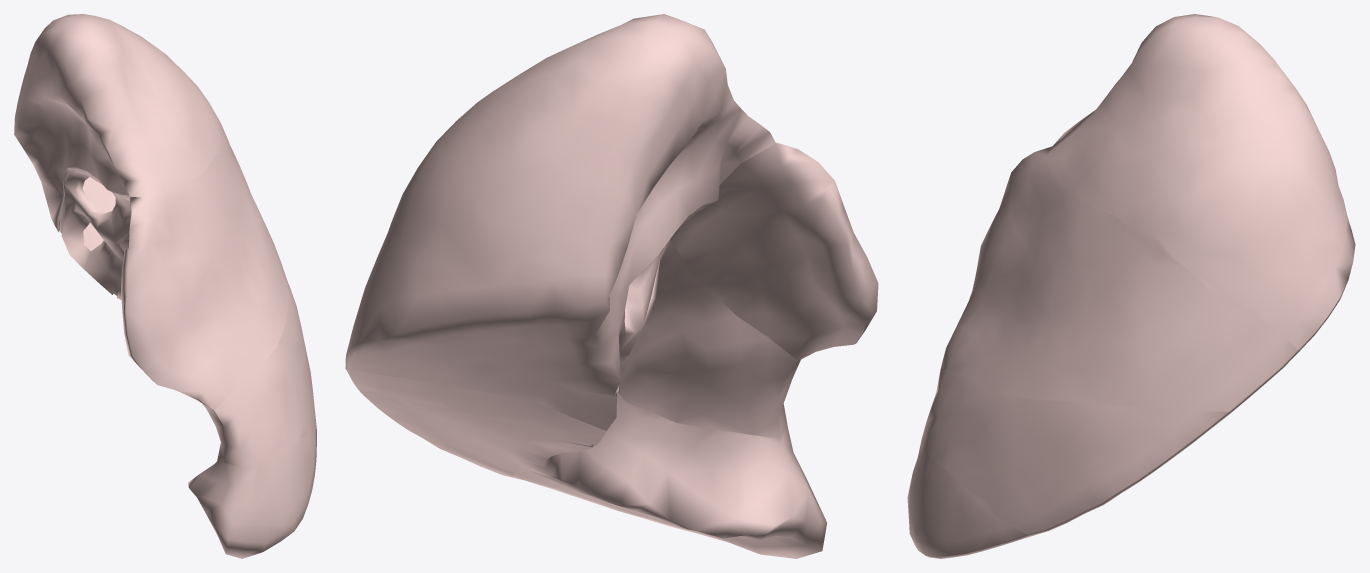
Rendered from lobo_superior_esquerdo.glb.
3 renders of one model, left to right at view 1: azimuth 30°, elevation 25°; view 2: azimuth 150°, elevation 25°; view 3: azimuth 270°, elevation 25°, orthographic. The views are drawn at different scales.
Visible parts, largest first — view 1: lobo_superior_esquerdo; view 2: lobo_superior_esquerdo; view 3: lobo_superior_esquerdo.
Boxes of the visible parts, x1,y1,x2,y2 form: lobo_superior_esquerdo: (14, 14, 316, 558); lobo_superior_esquerdo: (345, 14, 878, 558); lobo_superior_esquerdo: (907, 14, 1355, 558).
Bounding box in the file's own units: 0.1166 × 0.2133 × 0.1735.
